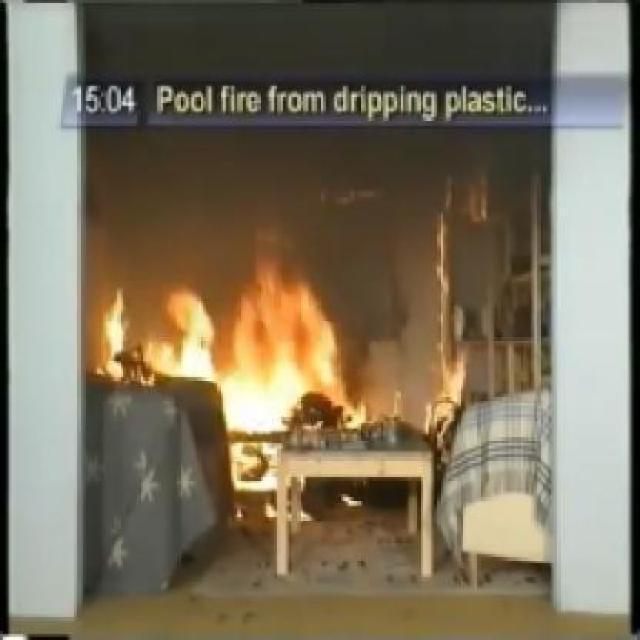smoke: (95, 243, 370, 446), (421, 182, 474, 446)
